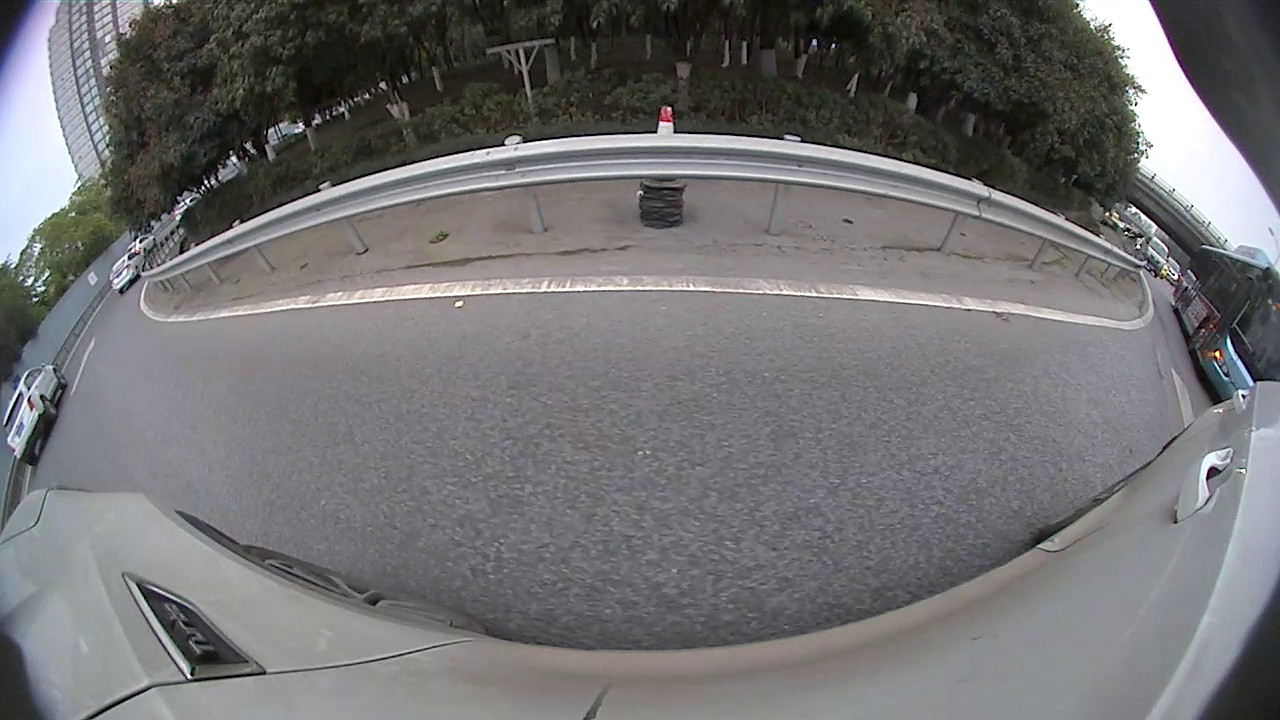bus: (1138, 255, 1218, 361)
car: (141, 110, 431, 277), (1077, 229, 1133, 293), (1237, 474, 1277, 551), (1198, 374, 1233, 424), (67, 256, 101, 290), (1227, 427, 1254, 463)
front: (257, 189, 315, 258)
rear: (156, 237, 193, 280)
truck: (311, 30, 479, 112)
